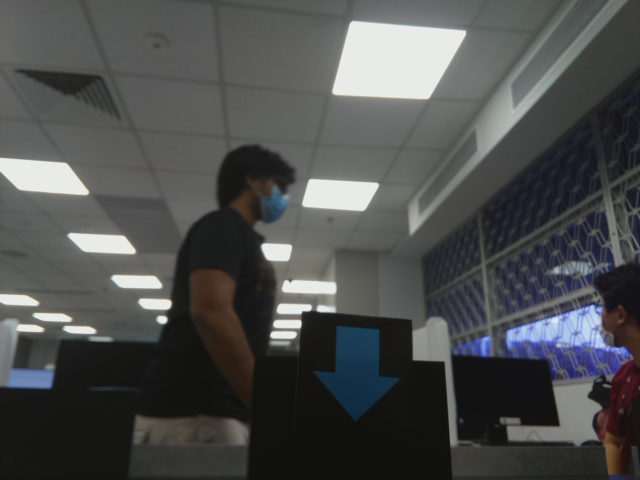down: (311, 321, 403, 425)
